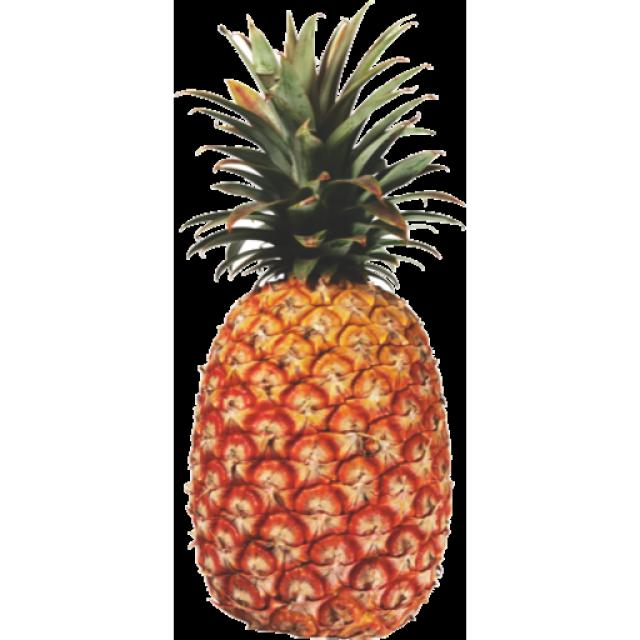pineapple: (165, 185, 485, 632)
